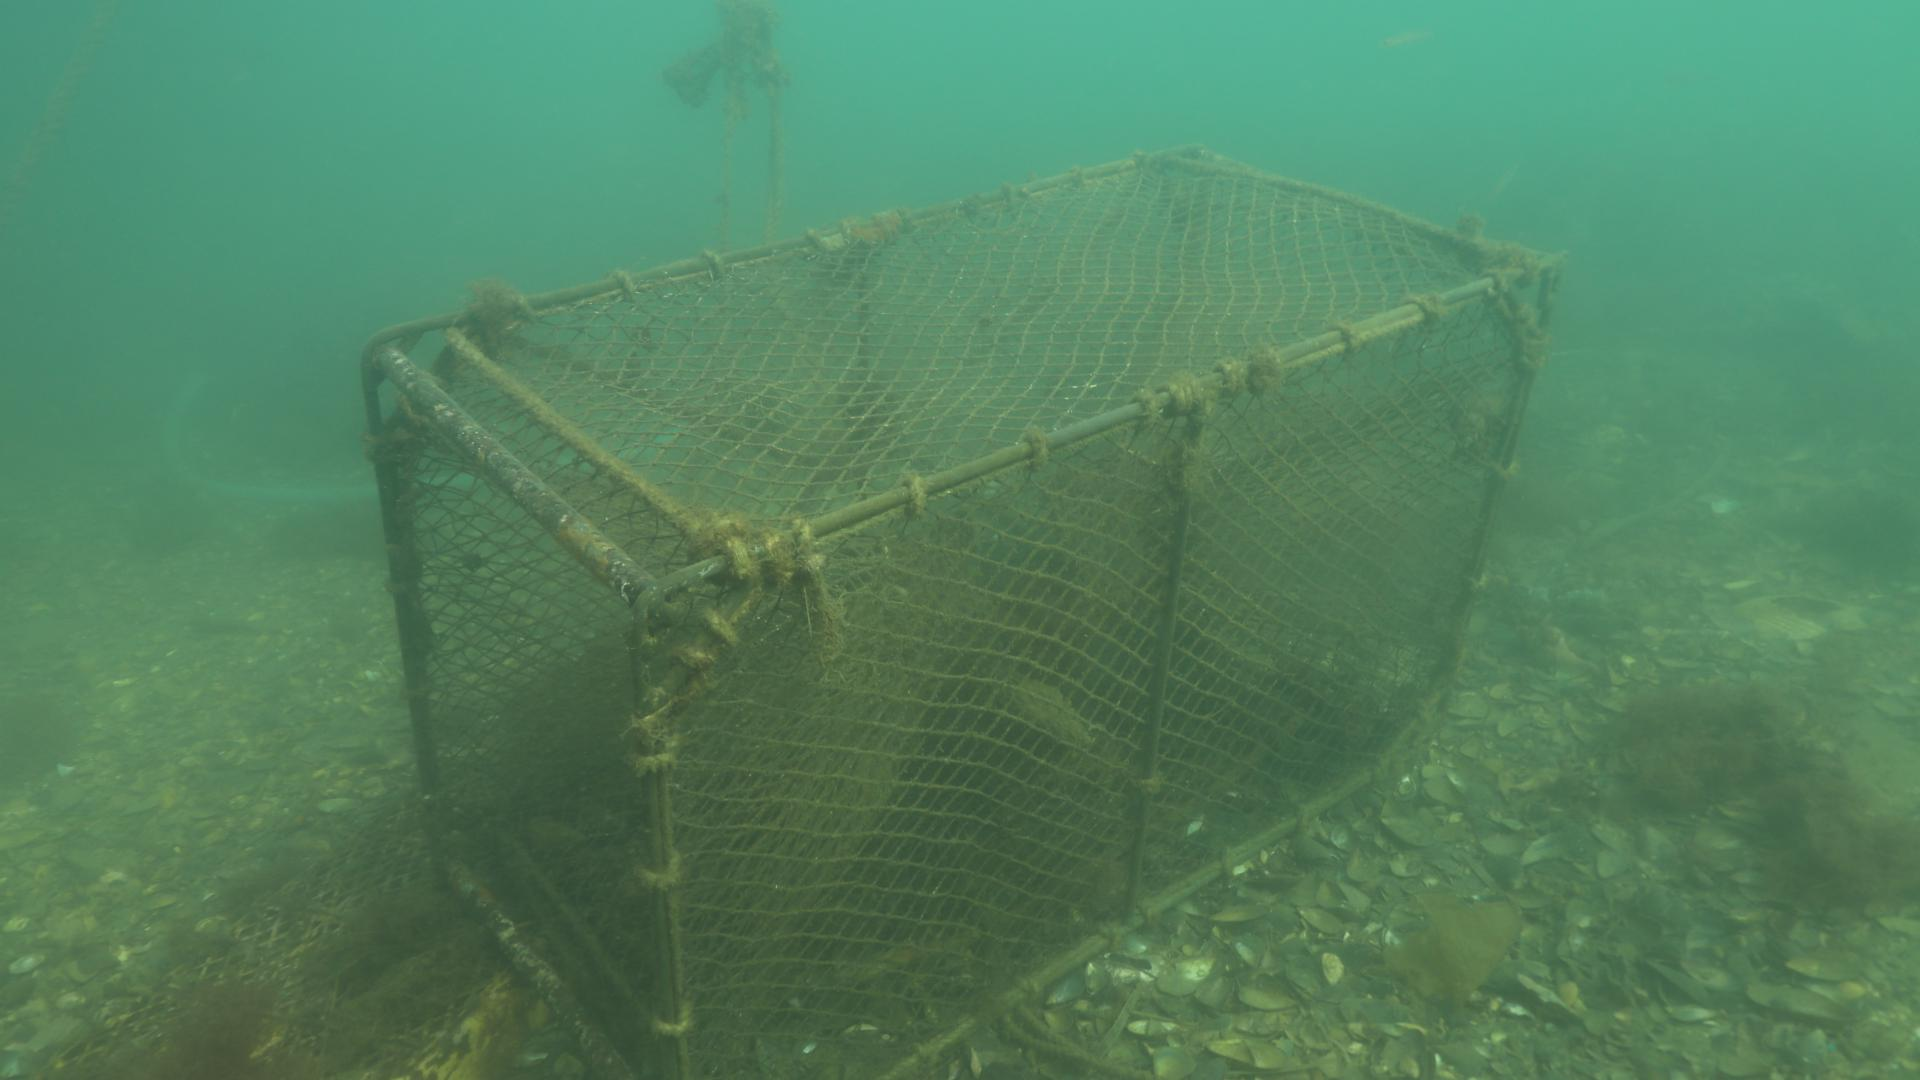rectangular fish trap: (356, 140, 1567, 1080)
